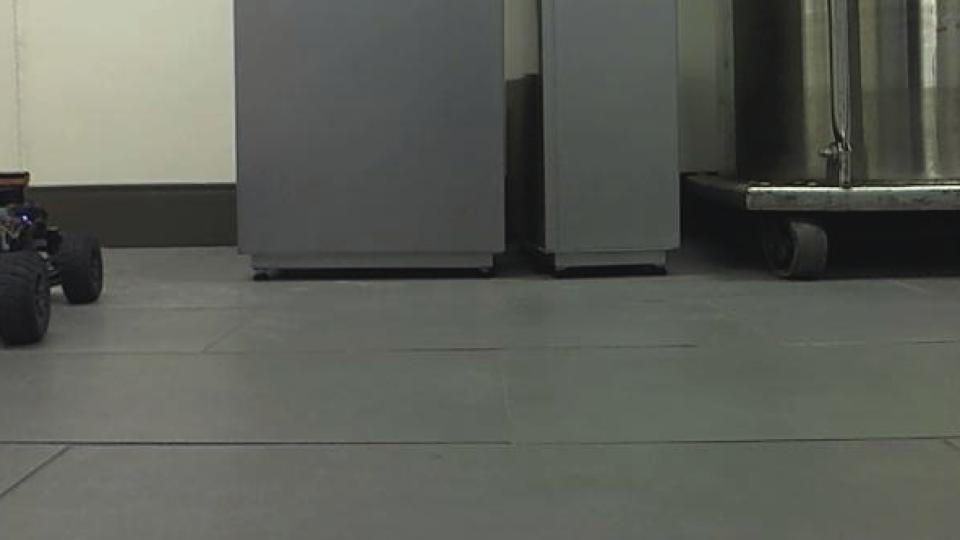car: (0, 123, 107, 349)
